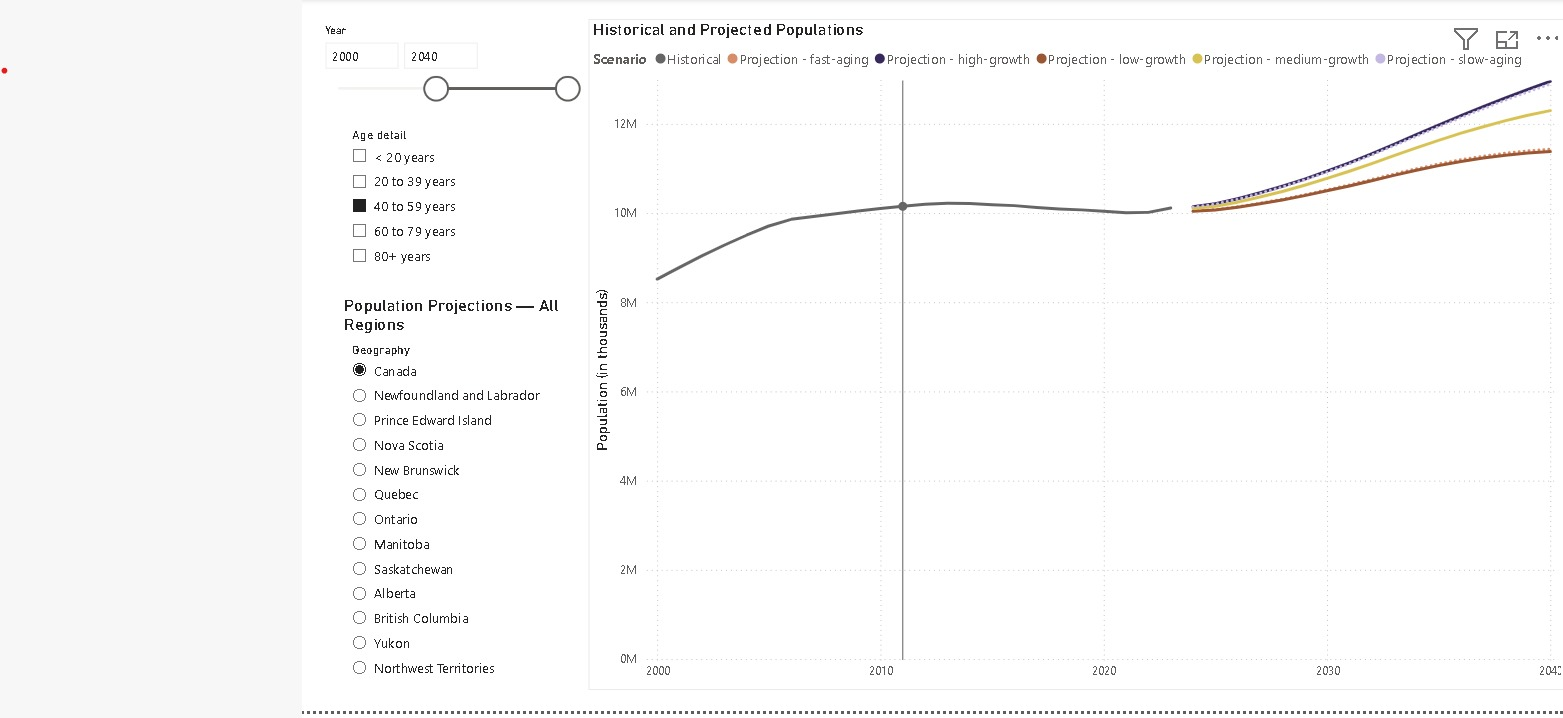

The page's visual inventory and layout, read from the dashboard file:
{"tool":"powerbi","page":{"name":"Population Estimates","canvas":[1280,720],"ordinal":0},"visuals":[{"type":"slicer","fields":{"Values":["Dates.Year"]},"box":[29.1,12.2,278.7,98],"z":0},{"type":"slicer","fields":{"Values":["Historical & Projected.Age detail"]},"box":[41.3,125.6,280.2,150],"z":1000},{"type":"slicer","fields":{"Values":["Geography.Geography"]},"box":[41.3,300.1,280.2,388.9],"z":2000},{"type":"lineChart","title":"Historical and Projected Populations","fields":{"Category":["Historical & Projected.REF_YEAR"],"Y":["Sum(Historical & Projected.Population)"],"Series":["Historical & Projected.Scenario"]},"box":[292.4,21.4,987.6,676.7],"z":3000}]}

Visuals, with their boxes on the page's 1280x720 design canvas (x1, y1, x2, y2). These are canvas units, not pixel positions in the 1563x718 screenshot, which may show the page scaled, cropped or inside an application window:
slicer - Dates.Year: (29, 12, 308, 110)
slicer - Historical & Projected.Age detail: (41, 126, 322, 276)
slicer - Geography.Geography: (41, 300, 322, 689)
"Historical and Projected Populations" lineChart: (292, 21, 1280, 698)
